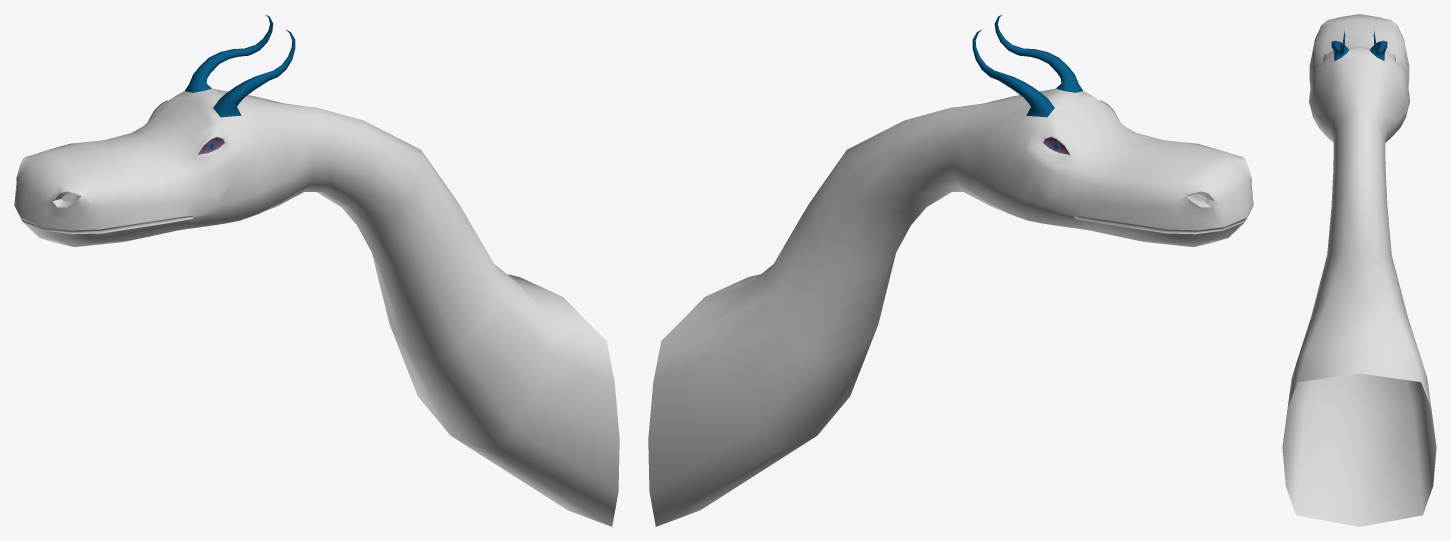
File: Dragon.FBX
3 views of the same model, side by side, from view 1: azimuth 30°, elevation 25°; view 2: azimuth 150°, elevation 25°; view 3: azimuth 270°, elevation 25° (orthographic). The views are drawn at different scales.
Parts seen in each view (by area): view 1: FishDragon; view 2: FishDragon; view 3: FishDragon.
Part boxes in pixels (left/top/right/bottom): FishDragon: left=14, top=14, right=619, bottom=526; FishDragon: left=648, top=14, right=1253, bottom=526; FishDragon: left=1282, top=14, right=1436, bottom=526.
Bounding box in the file's own units: 685 × 671 × 237.
